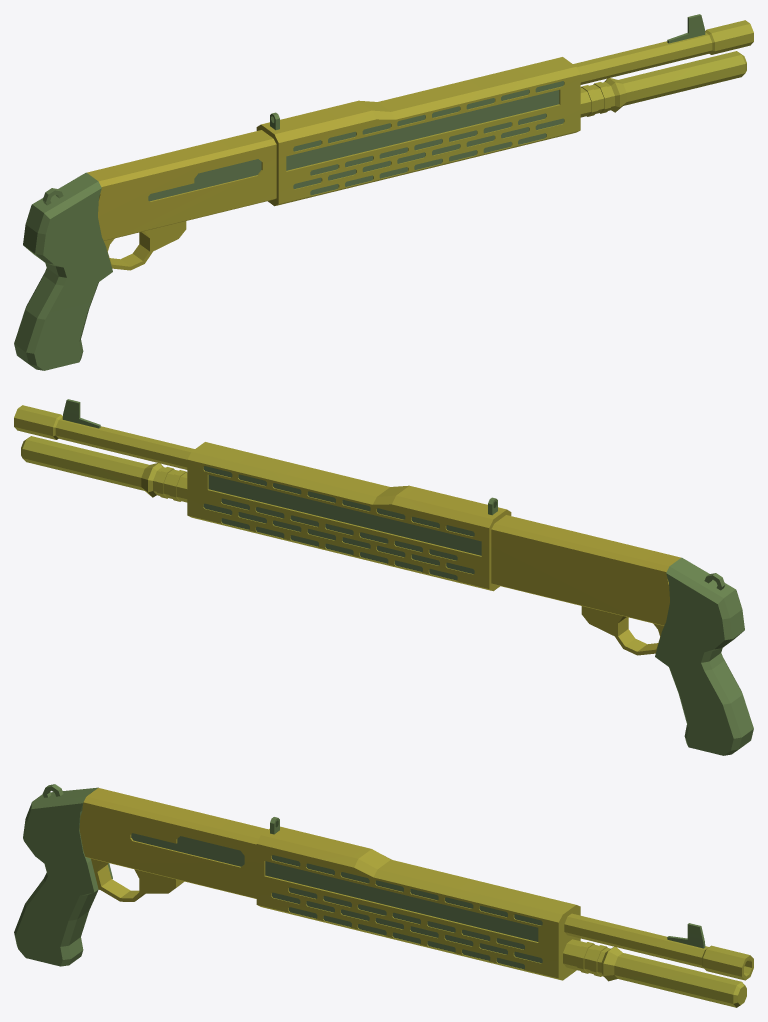
Rendered from Shotgun5_04.fbx.
3 views of the same model, one above another, from view 1: azimuth 30°, elevation 25°; view 2: azimuth 150°, elevation 25°; view 3: azimuth 330°, elevation 25° (orthographic).
Visible parts, largest first — view 1: Shotgun5_04; view 2: Shotgun5_04; view 3: Shotgun5_04.
Boxes of the visible parts, bbox=[...] form: Shotgun5_04: bbox=[14, 14, 753, 370]; Shotgun5_04: bbox=[14, 399, 753, 755]; Shotgun5_04: bbox=[14, 784, 753, 1007].
Bounding box in the file's own units: 0.8358 × 0.2102 × 0.0437.
